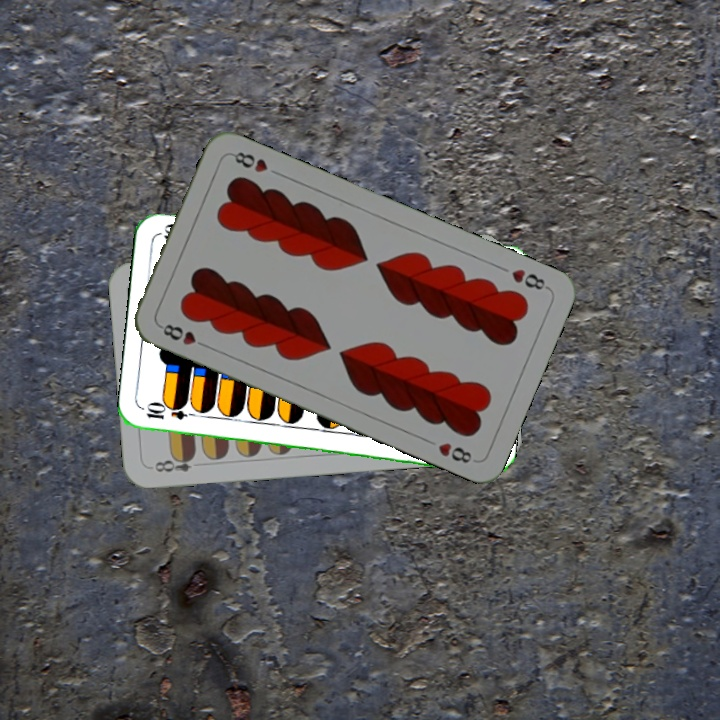E10: (142, 404, 201, 423)
E8: (150, 450, 198, 475)
H8: (155, 320, 212, 351), (507, 265, 552, 293)
